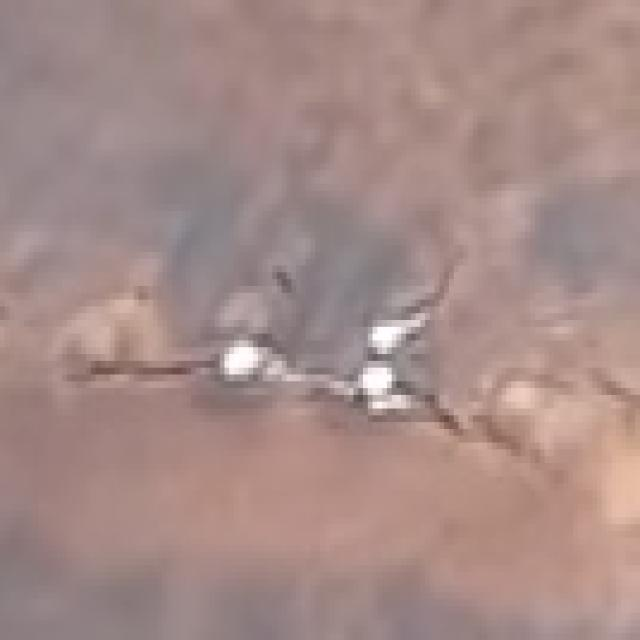crack: (77, 300, 273, 443)
